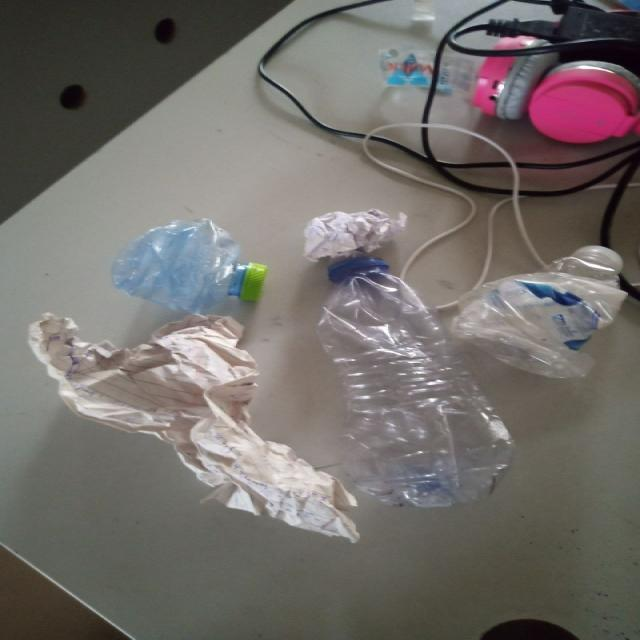Paper: (29, 313, 360, 543), (303, 209, 408, 265)
Plastic: (315, 250, 520, 512), (441, 244, 630, 383), (109, 218, 269, 314)
